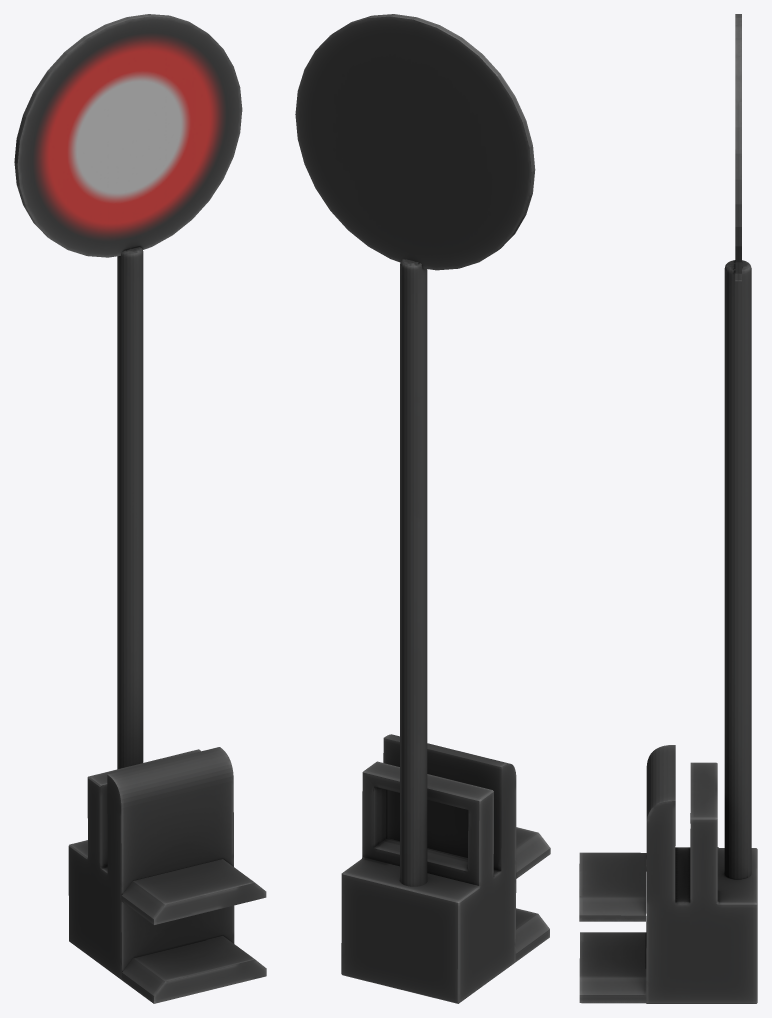
Rendered from 3D_Race_Sign.FBX.
3 views of the same model, side by side, from view 1: azimuth 30°, elevation 25°; view 2: azimuth 150°, elevation 25°; view 3: azimuth 270°, elevation 25° (orthographic). The views are drawn at different scales.
Parts seen in each view (by area): view 1: 3D_Sign_Race; view 2: 3D_Sign_Race; view 3: 3D_Sign_Race.
Boxes of the visible parts, x1,y1,x2,y2 form: 3D_Sign_Race: (14,14,266,1003); 3D_Sign_Race: (295,14,550,1003); 3D_Sign_Race: (579,14,757,1003).
Bounding box in the file's own units: 20 × 78.1 × 13.35.
